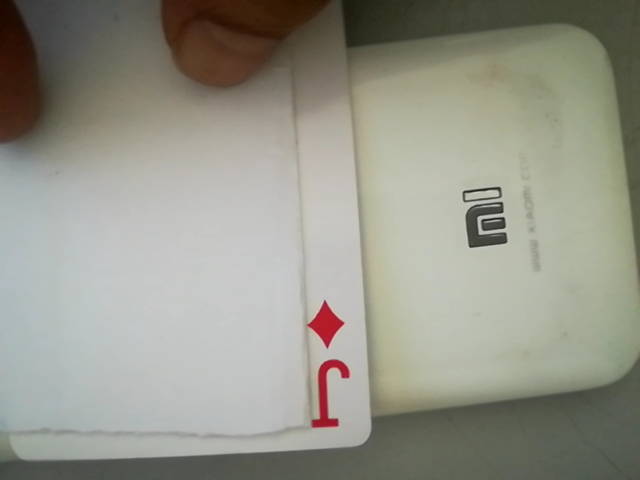fk j: (294, 296, 363, 441)
